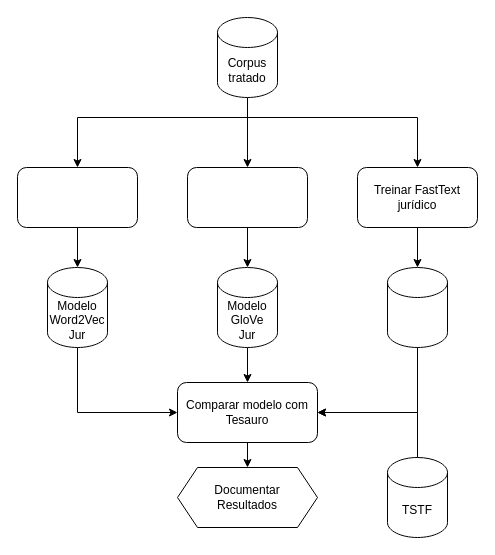
Some shapes in this 495 by 555 pixel diagram are drawn without their labels. Each missing label, with the centre of its shape:
"Modelo FastText Jur" belongs at pixel 417 307.
"Treinar GloVe jurídico" belongs at pixel 247 197.
"Treinar Word2Vec jurídico" belongs at pixel 77 197.
